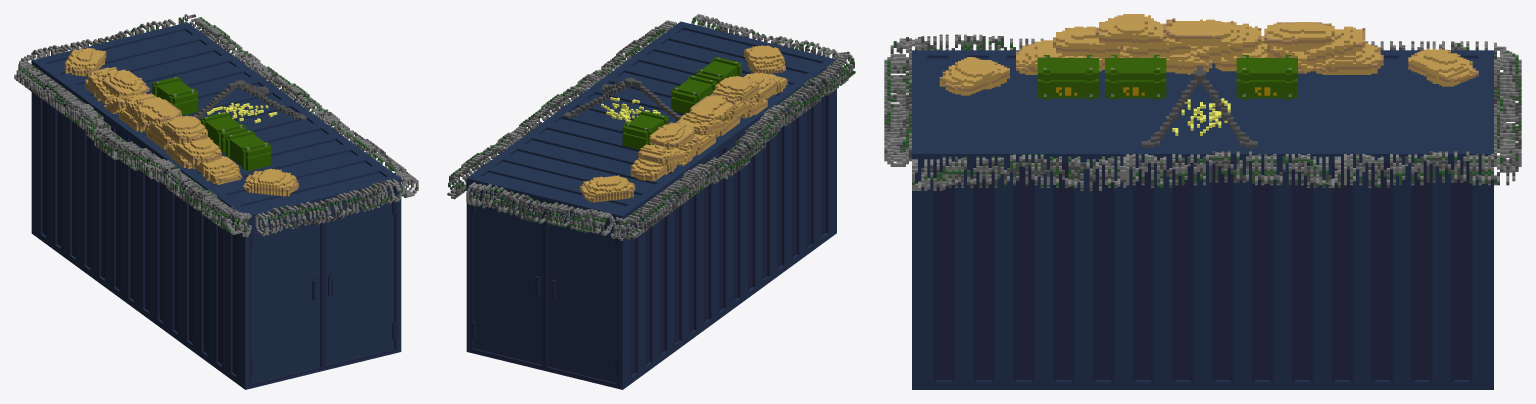
Rendered from mitrailleuse_v2.vox.obj.
3 views of the same model, side by side, from view 1: azimuth 30°, elevation 25°; view 2: azimuth 150°, elevation 25°; view 3: azimuth 270°, elevation 25° (orthographic). The views are drawn at different scales.
Size of the model in its own units: 10.1 by 10.1 by 20.8.
1 material, 1 textured.
